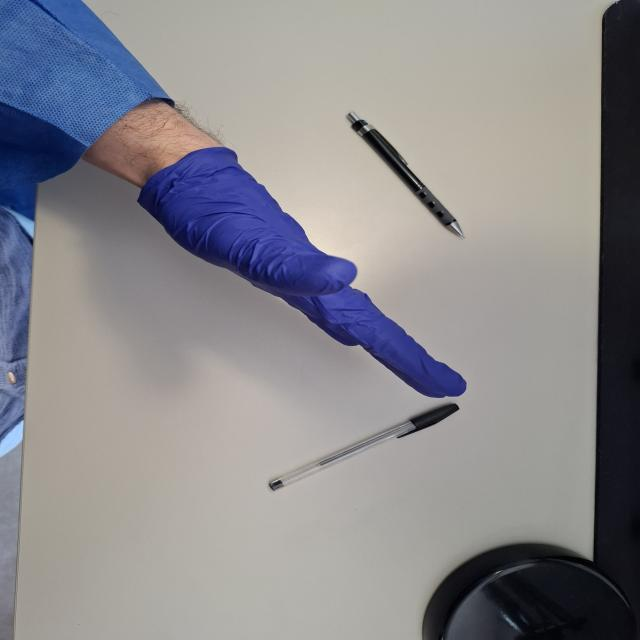glove_on: (134, 144, 470, 400)
